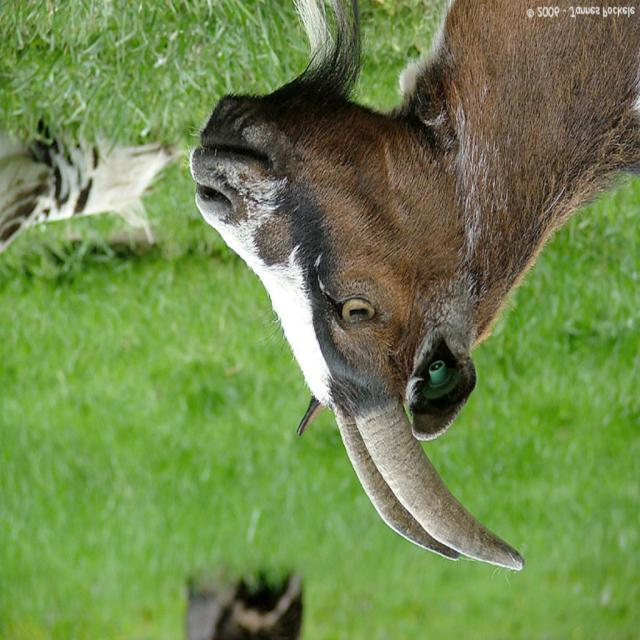Goat: (188, 2, 639, 576), (0, 117, 181, 255), (184, 569, 305, 640)
